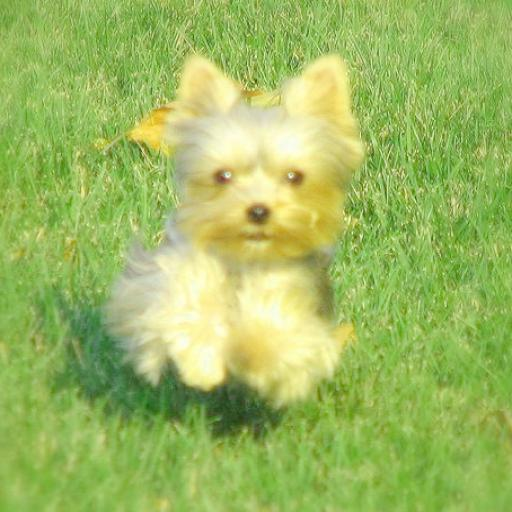dog_face: (167, 54, 354, 254)
